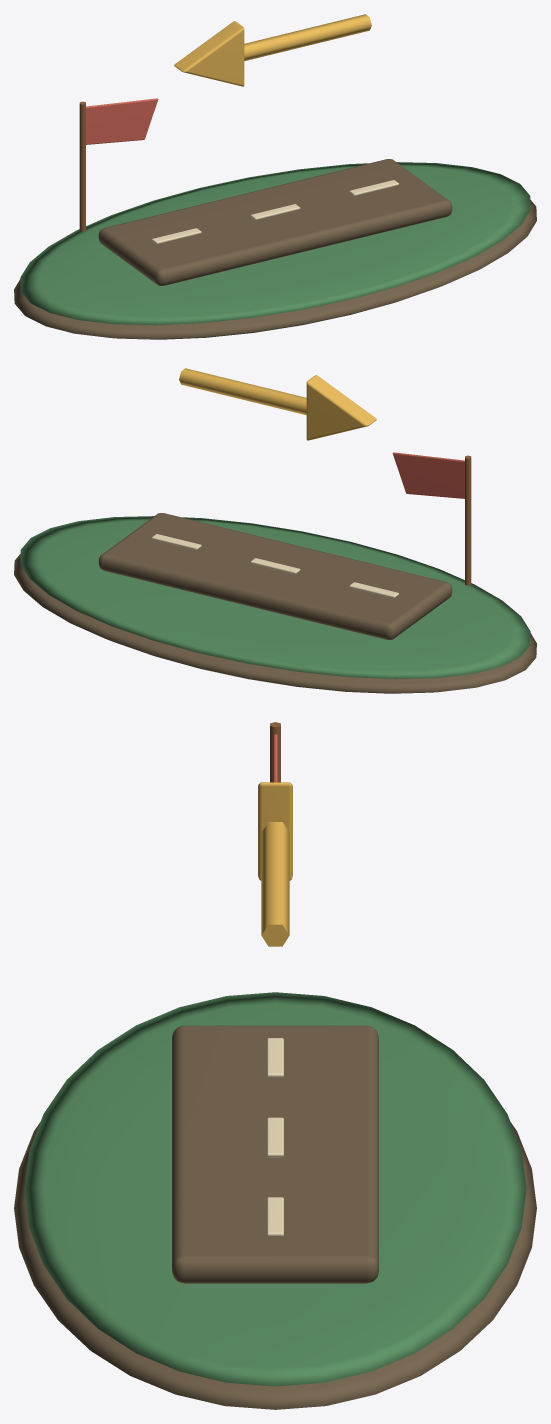
The model's file is left-edge.glb.
The picture shows the model from 3 angles, top to bottom: view 1: azimuth 30°, elevation 25°; view 2: azimuth 150°, elevation 25°; view 3: azimuth 270°, elevation 25°; orthographic projection. The views are drawn at different scales.
Parts seen in each view (by area): view 1: left-edge_surface_01, left-edge_surface_00, left-edge_surface_02, left-edge_surface_04, left-edge_surface_05, left-edge_surface_03; view 2: left-edge_surface_01, left-edge_surface_00, left-edge_surface_02, left-edge_surface_04, left-edge_surface_05, left-edge_surface_03; view 3: left-edge_surface_01, left-edge_surface_00, left-edge_surface_02, left-edge_surface_05.
Part boxes in pixels (<box>): left-edge_surface_01: <box>20,162,530,325</box>; left-edge_surface_00: <box>14,159,536,339</box>; left-edge_surface_02: <box>174,14,371,86</box>; left-edge_surface_04: <box>86,98,158,144</box>; left-edge_surface_05: <box>152,180,398,244</box>; left-edge_surface_03: <box>79,101,85,231</box>; left-edge_surface_01: <box>20,516,530,679</box>; left-edge_surface_00: <box>14,513,536,693</box>; left-edge_surface_02: <box>179,368,376,440</box>; left-edge_surface_04: <box>392,452,464,498</box>; left-edge_surface_05: <box>152,534,398,598</box>; left-edge_surface_03: <box>465,455,471,585</box>; left-edge_surface_01: <box>24,992,526,1386</box>; left-edge_surface_00: <box>14,1025,536,1409</box>; left-edge_surface_02: <box>258,782,292,946</box>; left-edge_surface_05: <box>267,1038,283,1236</box>.
Bounding box in the file's own units: 4.56 × 2.22 × 2.5.
